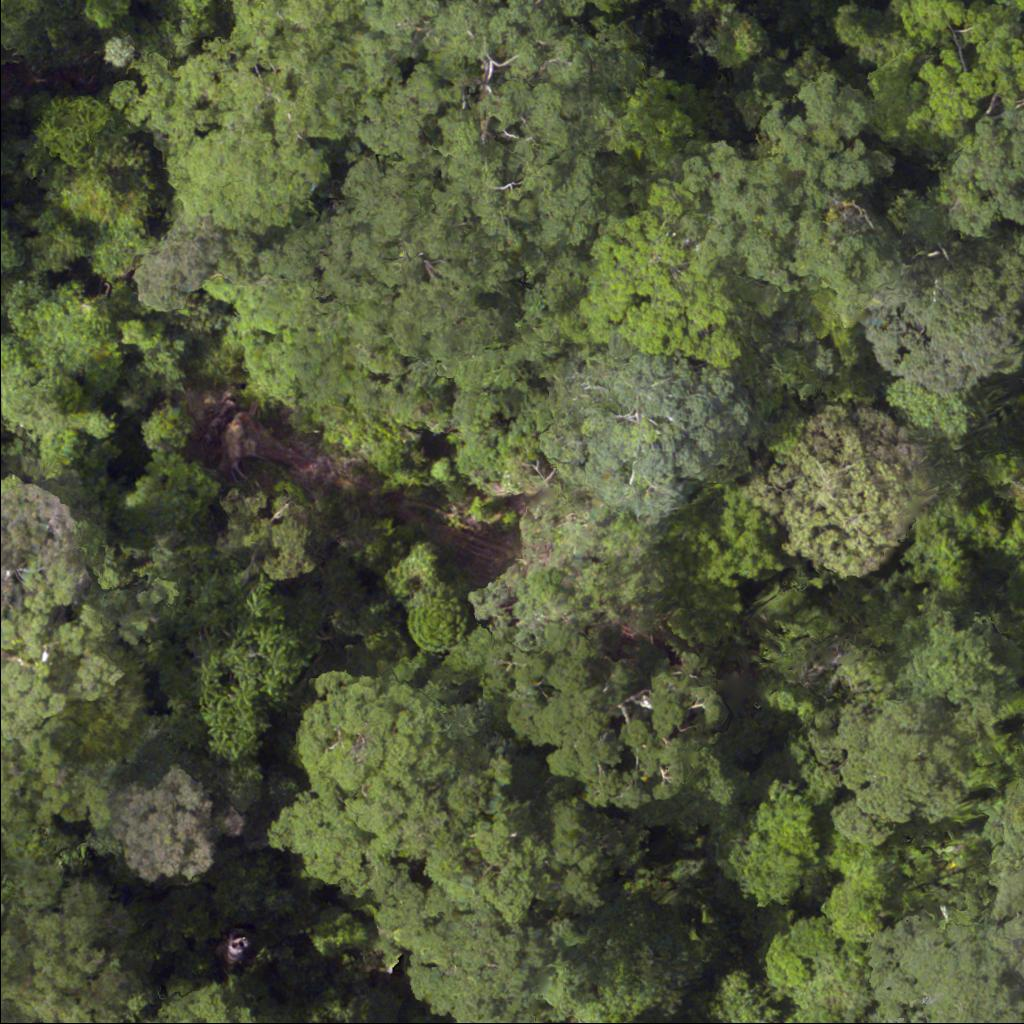crown: (673, 87, 892, 294), (539, 349, 750, 522), (743, 406, 935, 580), (577, 179, 742, 368), (806, 694, 974, 846), (864, 239, 1023, 395), (406, 913, 553, 1023), (938, 94, 1023, 236), (1020, 240, 1023, 256)
